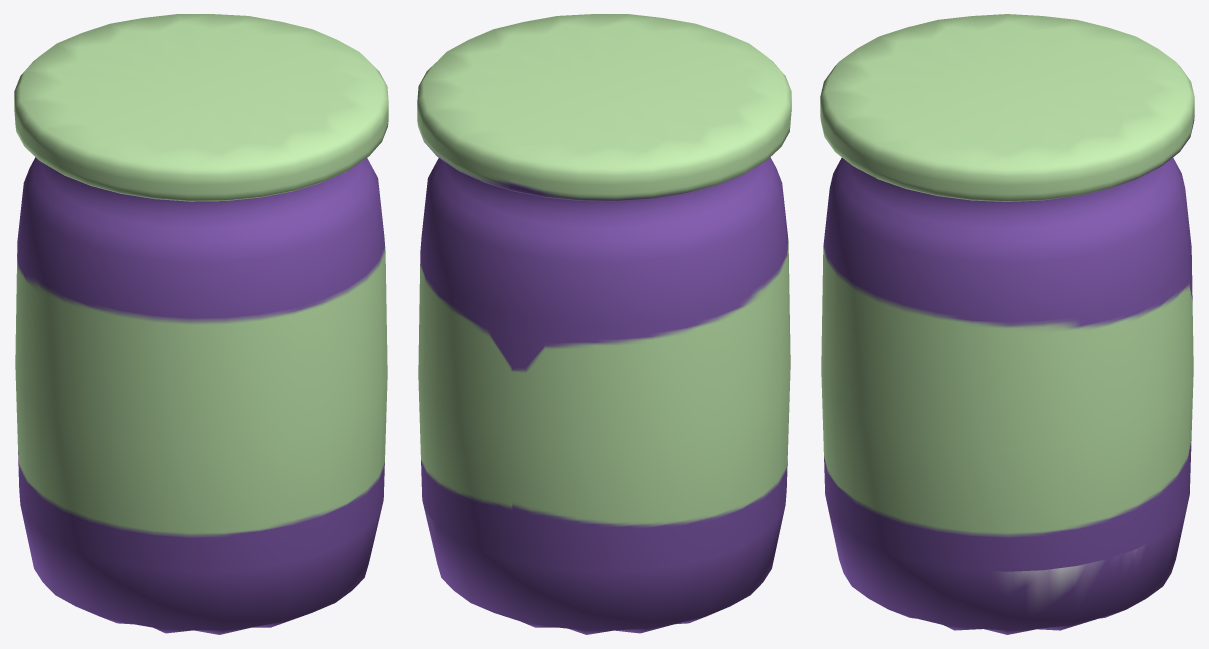
File: Flask1.glb
3 renders of one model, left to right at view 1: azimuth 30°, elevation 25°; view 2: azimuth 150°, elevation 25°; view 3: azimuth 270°, elevation 25°, orthographic.
Parts seen in each view (by area): view 1: Flask.001; view 2: Flask.001; view 3: Flask.001.
Part boxes in pixels (box(x1,y1,x2,y2)): Flask.001: box(14, 14, 388, 634); Flask.001: box(417, 14, 791, 634); Flask.001: box(820, 14, 1194, 634).
Bounding box in the file's own units: 0.1113 × 0.1635 × 0.1113.
1 material, 1 textured.
